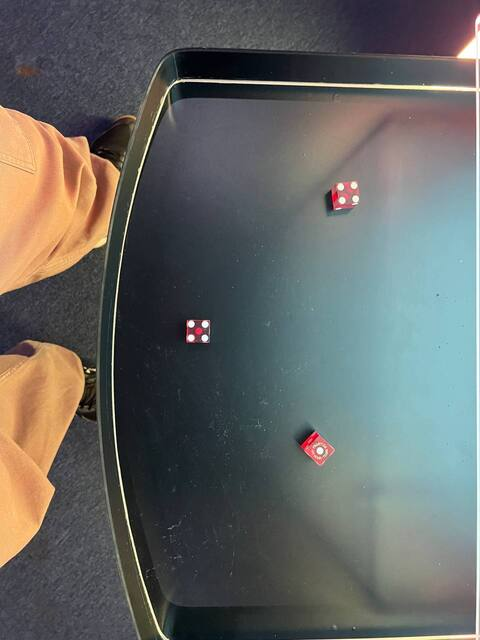four: (181, 316, 213, 346), (331, 178, 364, 207)
one: (301, 432, 336, 467)
